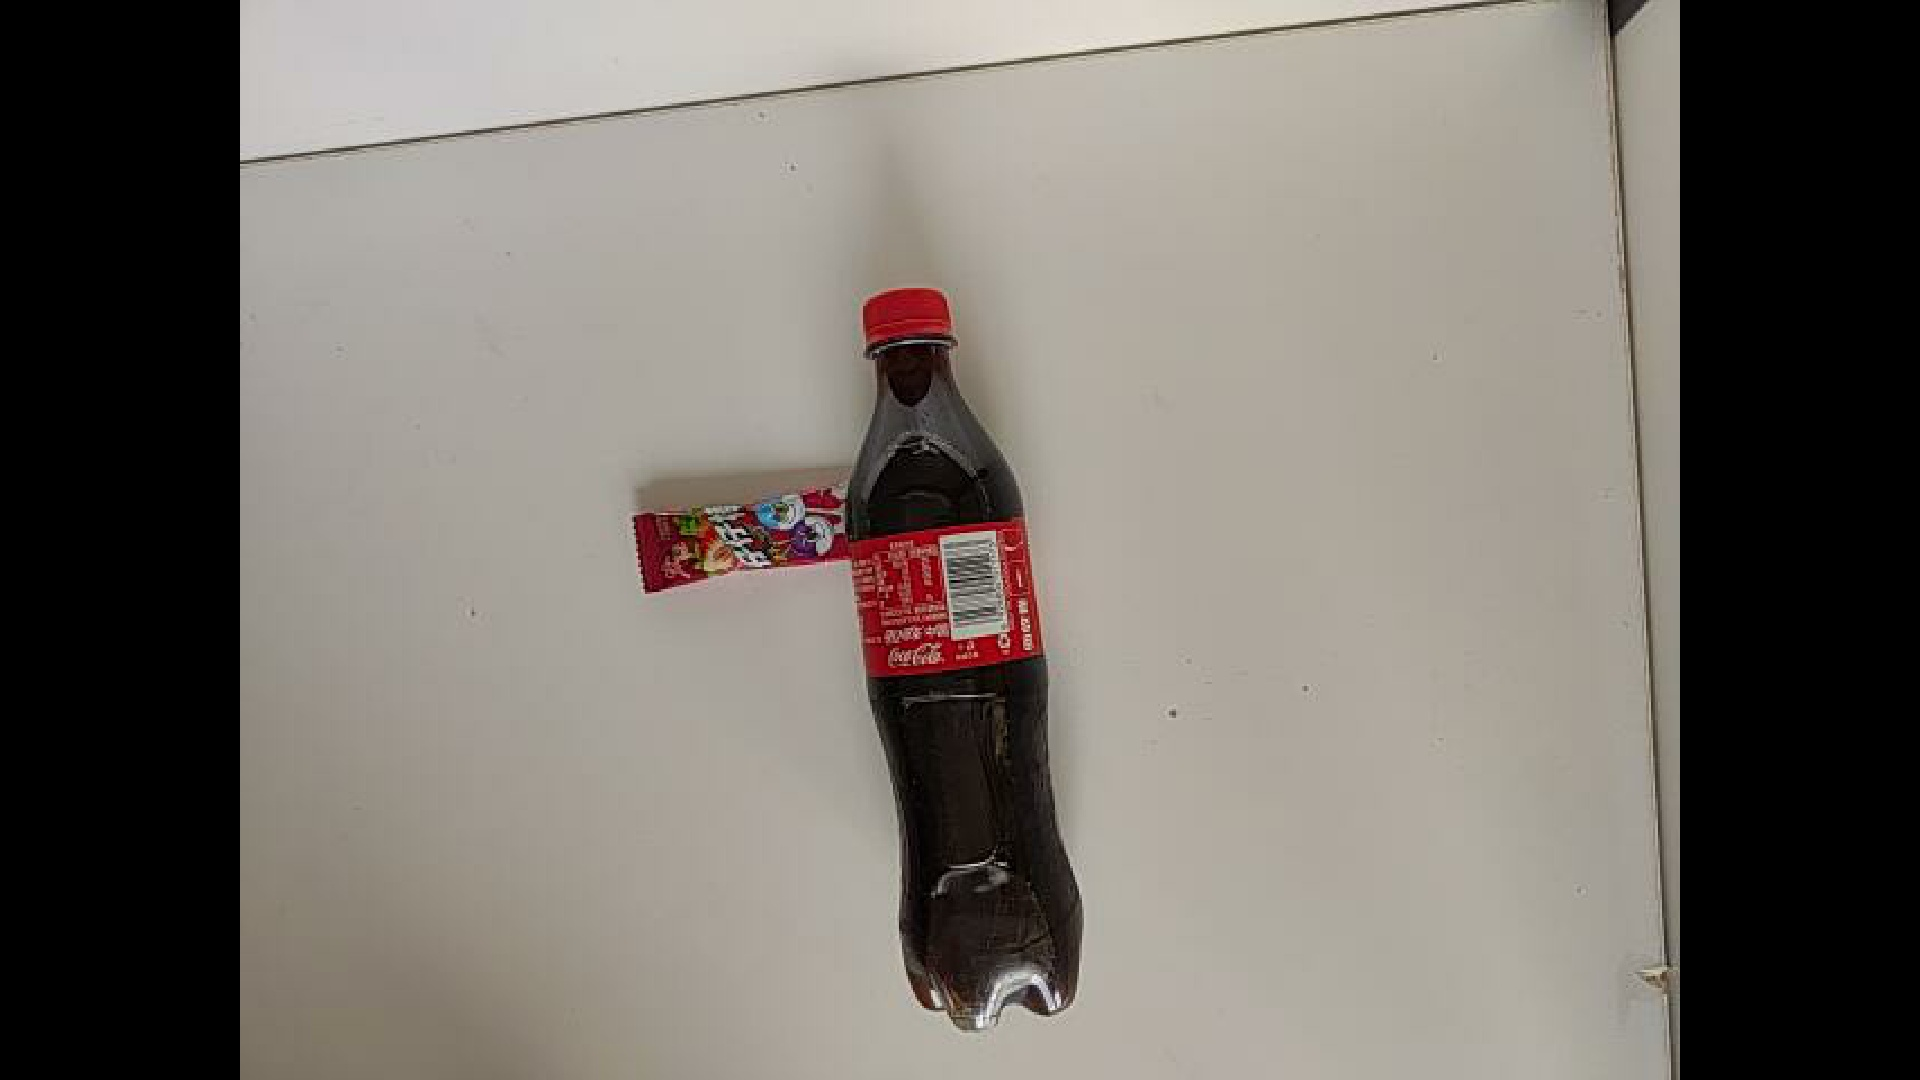cola: (814, 285, 1174, 1042)
sugar: (629, 497, 865, 596)
